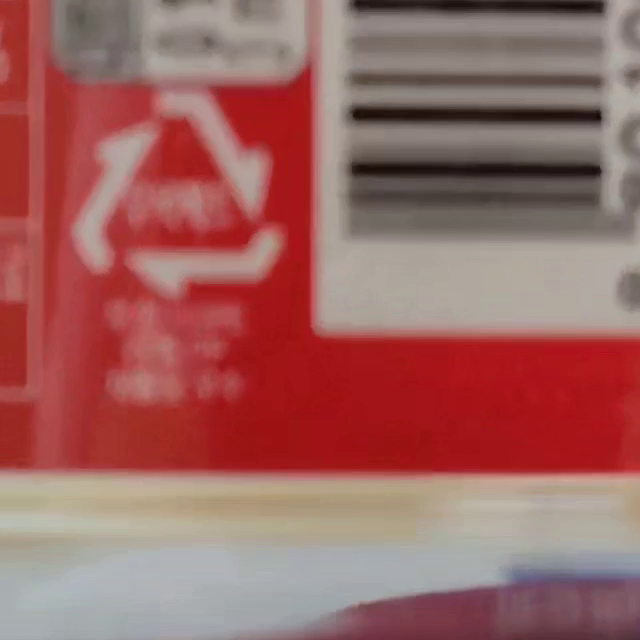ColorlessPet: (71, 89, 287, 297)
